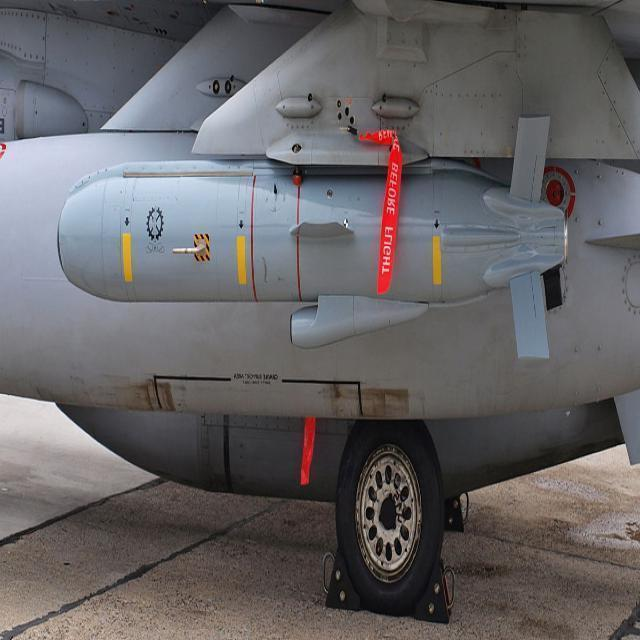missile: (54, 114, 630, 356)
